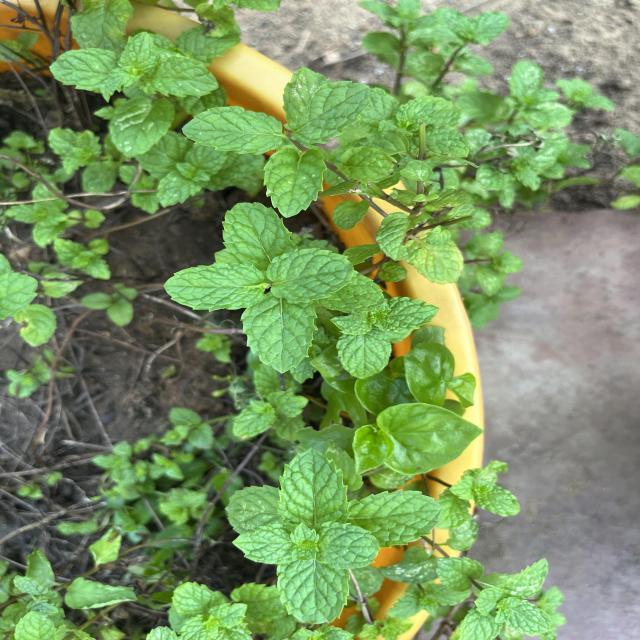Mentha spicata: (240, 298, 320, 374), (283, 79, 371, 148), (162, 261, 268, 312), (265, 247, 355, 305), (182, 106, 284, 156), (221, 201, 296, 267), (262, 147, 328, 219)
